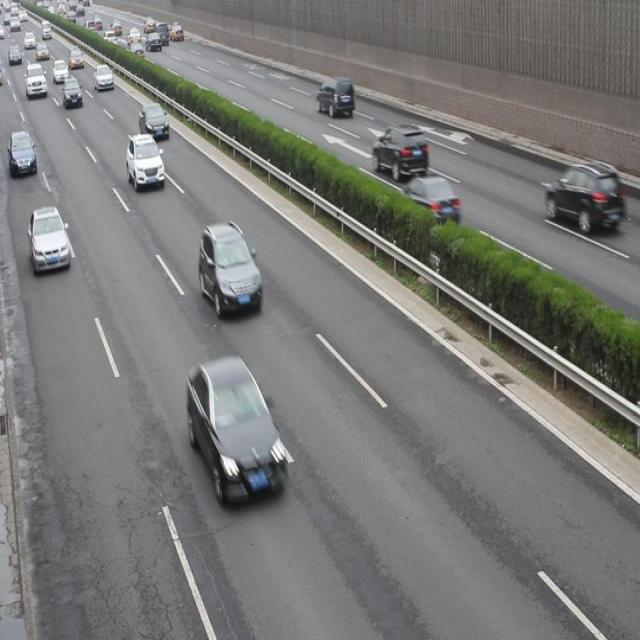car: (186, 353, 286, 510), (542, 159, 624, 234), (198, 221, 262, 316), (396, 173, 459, 231), (371, 122, 428, 180), (28, 203, 71, 278), (124, 132, 165, 192), (317, 74, 354, 120), (8, 126, 38, 180), (138, 101, 169, 144)
